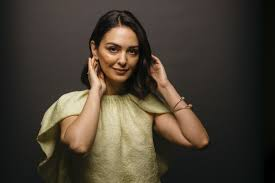middle_eastern_Female: (90, 22, 152, 83)
